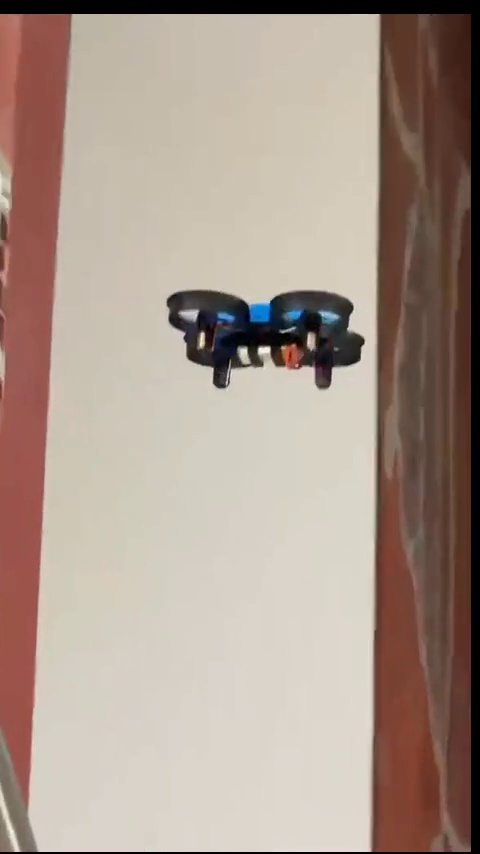drone: (164, 293, 367, 391)
